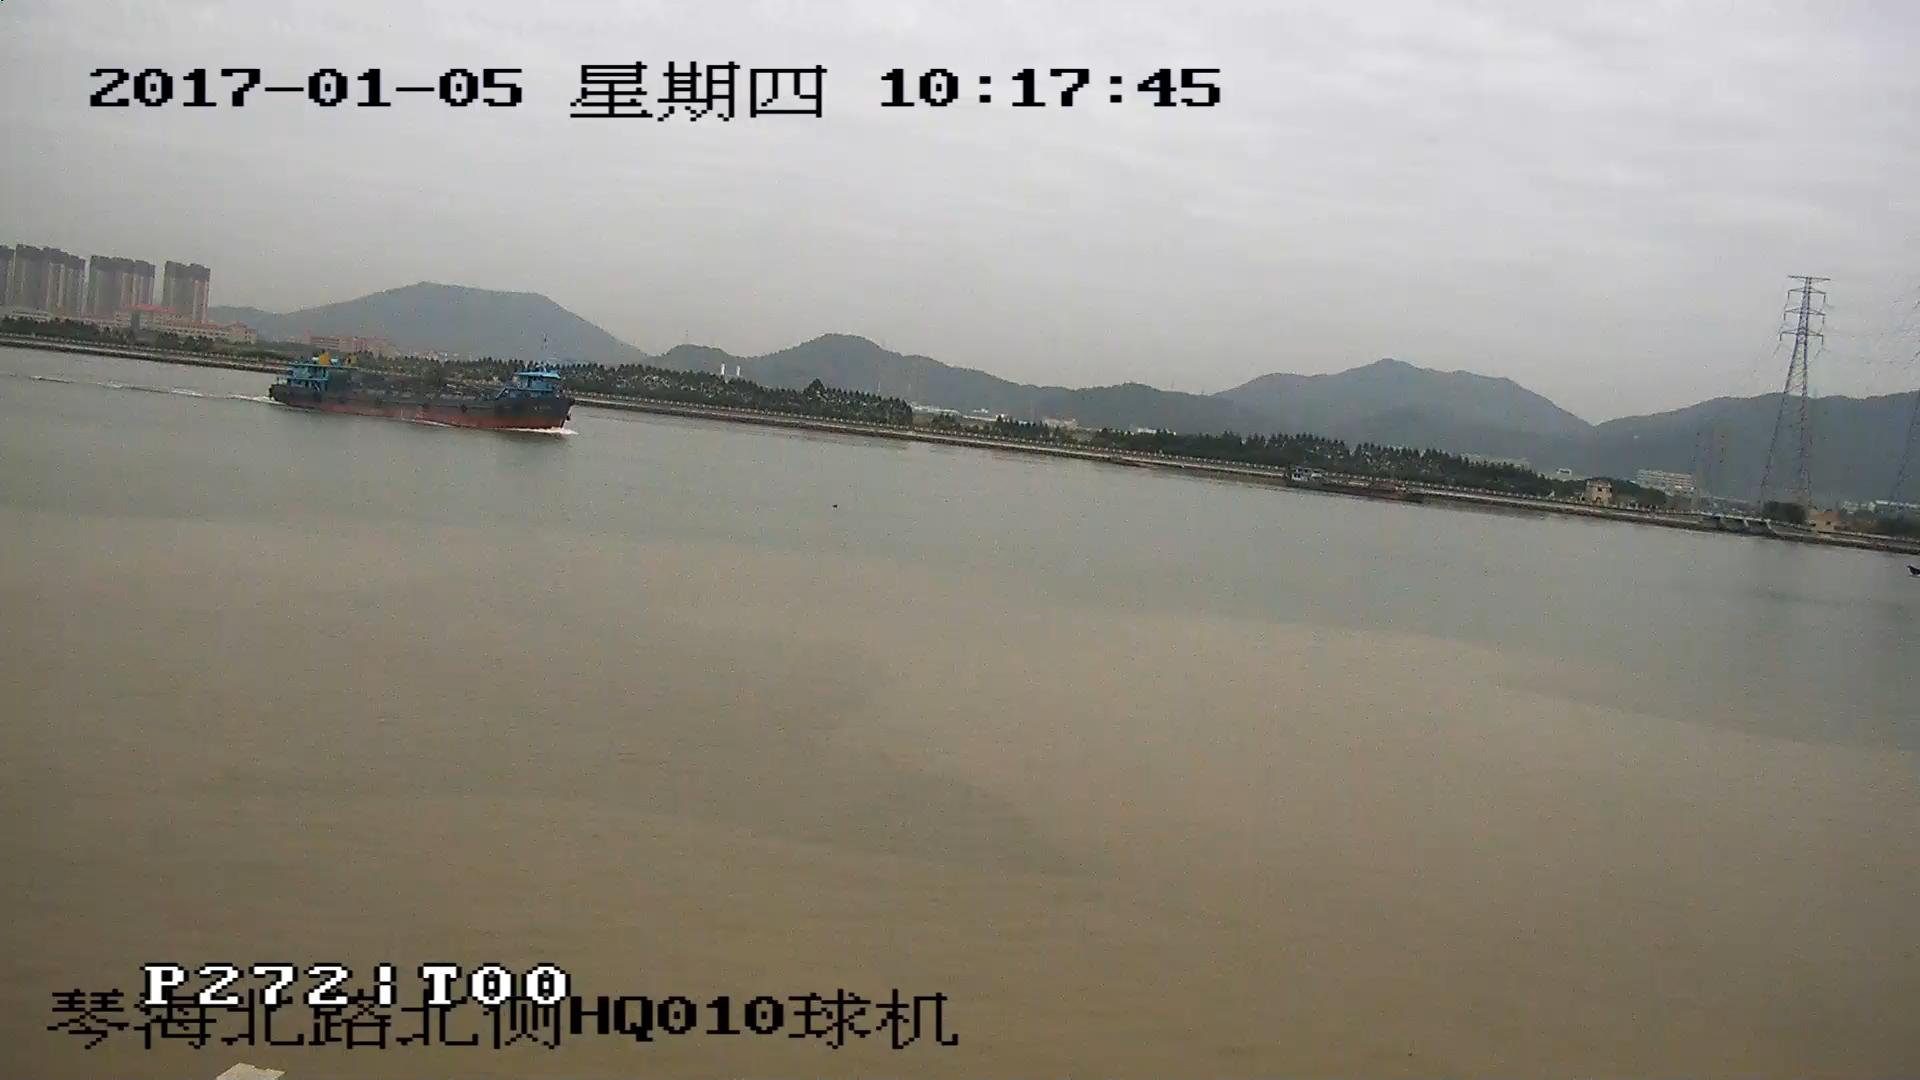bulk cargo carrier: (262, 351, 572, 426)
